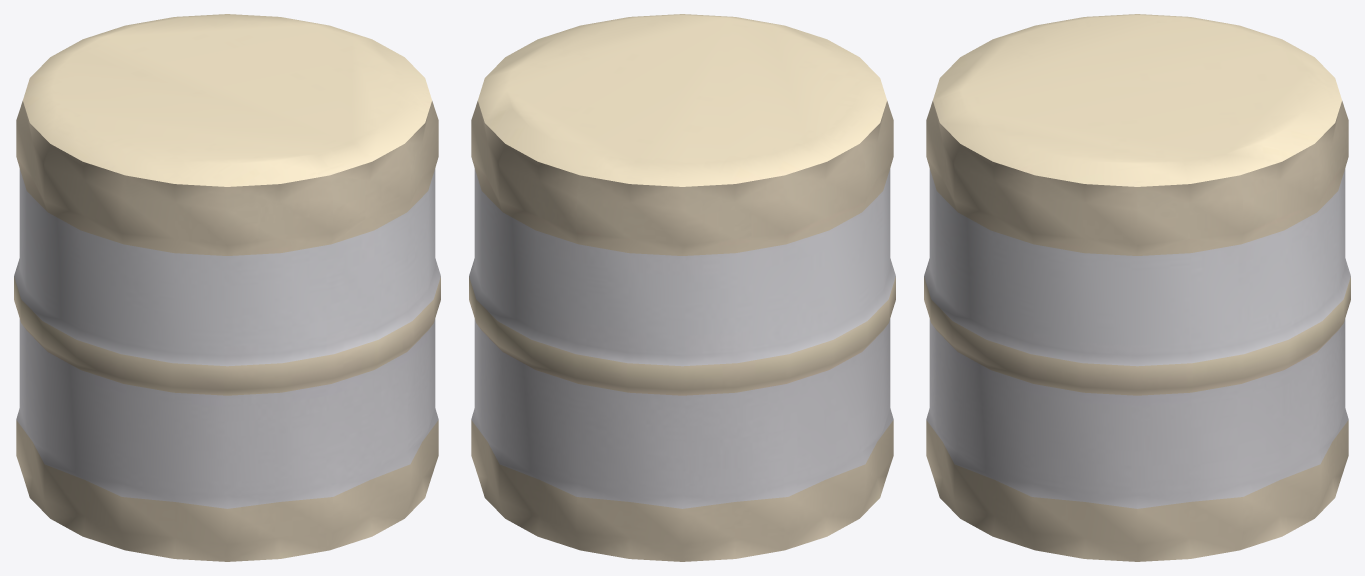
File: silindir.glb
3 renders of one model, left to right at view 1: azimuth 30°, elevation 25°; view 2: azimuth 150°, elevation 25°; view 3: azimuth 270°, elevation 25°, orthographic.
Parts seen in each view (by area): view 1: silindir; view 2: silindir; view 3: silindir.
Boxes of the visible parts, left/top/right/bottom form: silindir: left=14, top=14, right=440, bottom=561; silindir: left=469, top=14, right=895, bottom=561; silindir: left=924, top=14, right=1350, bottom=561.
Bounding box in the file's own units: 1.5 × 1.54 × 1.5.
1 material, 1 textured.
